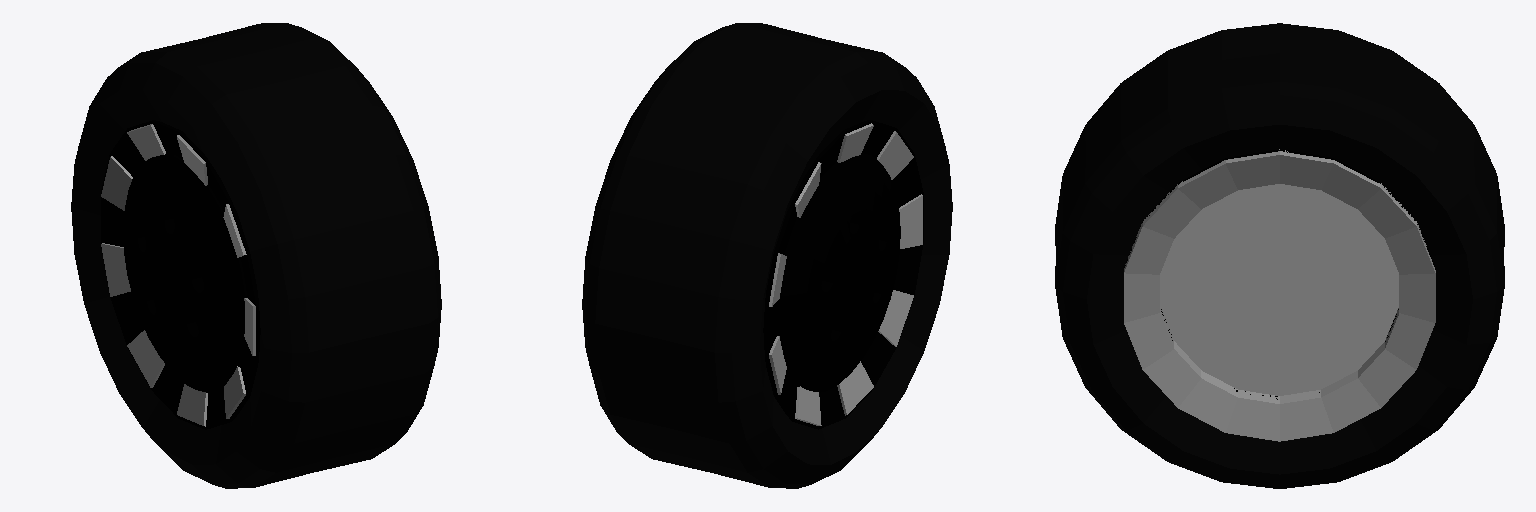
The model's file is Llanta4.obj.
The picture shows the model from 3 angles: view 1: azimuth 30°, elevation 25°; view 2: azimuth 150°, elevation 25°; view 3: azimuth 270°, elevation 25°; orthographic projection.
Parts seen in each view (by area): view 1: Llanta4; view 2: Llanta4; view 3: Llanta4.
Boxes of the visible parts, x1=… form: Llanta4: x1=71, y1=23, x2=441, y2=488; Llanta4: x1=582, y1=23, x2=952, y2=488; Llanta4: x1=1055, y1=23, x2=1504, y2=488.
Bounding box in the file's own units: 2.2 × 4.8 × 4.8.